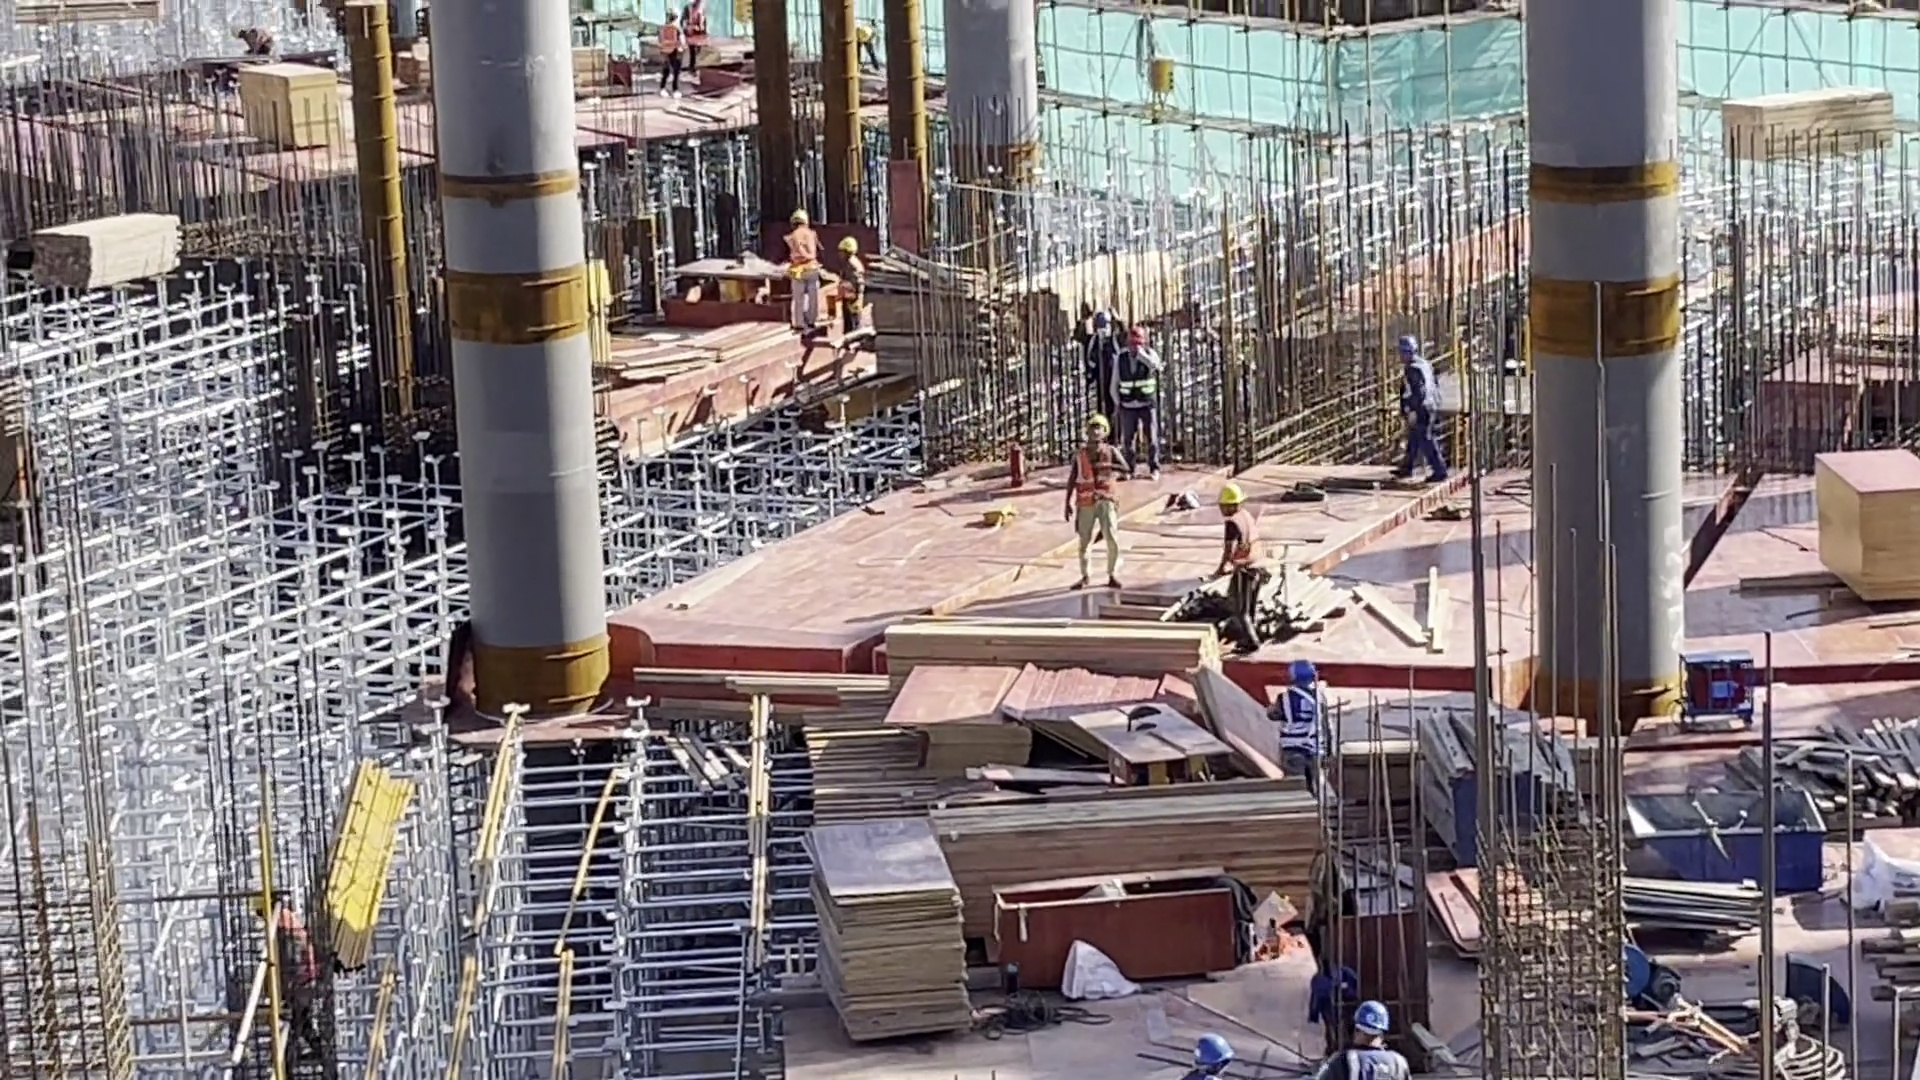helmet: (1349, 999, 1389, 1047), (1187, 1025, 1228, 1065), (1397, 320, 1426, 356), (1087, 412, 1111, 446), (1127, 322, 1152, 355), (1215, 483, 1241, 513), (1087, 306, 1111, 336), (835, 232, 856, 264), (1291, 662, 1317, 686), (784, 208, 808, 234), (664, 7, 677, 26)
person: (1206, 486, 1271, 659), (1068, 413, 1125, 591), (1388, 334, 1451, 483), (1115, 323, 1170, 478), (1316, 998, 1407, 1080), (779, 207, 821, 328), (652, 7, 691, 99), (832, 239, 864, 327), (681, 1, 714, 71)
vest: (1065, 447, 1120, 544), (1401, 357, 1446, 430), (1222, 514, 1272, 579), (1119, 357, 1155, 419)
